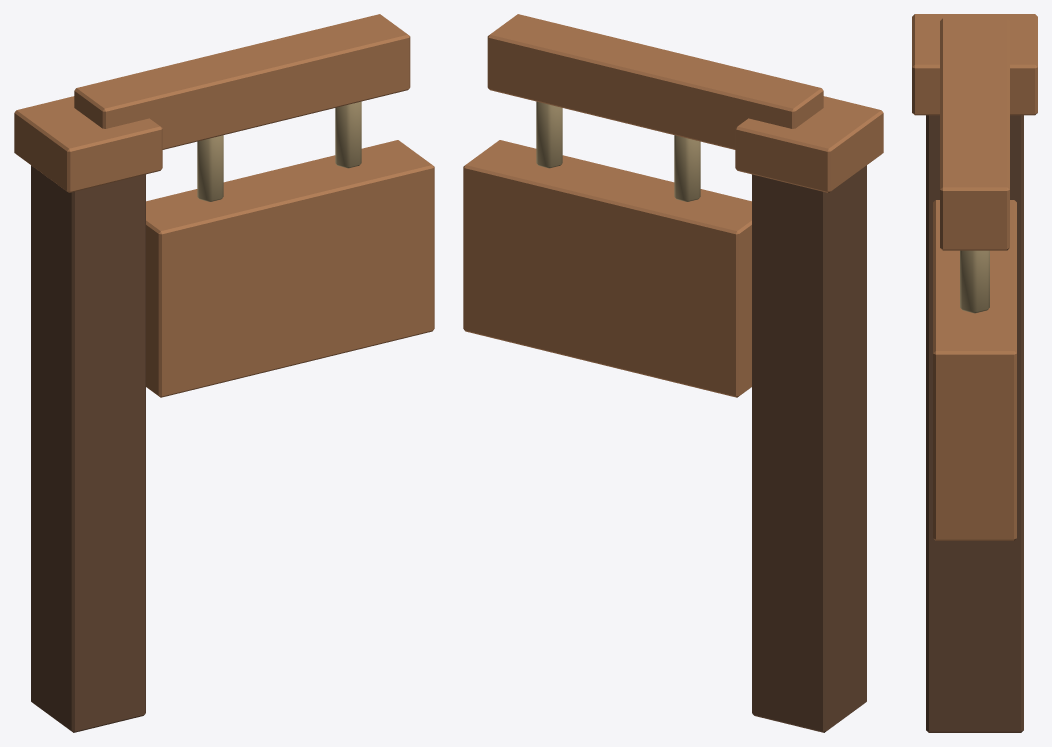
The model's file is wood_sign_hanging_01.glb.
The picture shows the model from 3 angles, left to right: view 1: azimuth 30°, elevation 25°; view 2: azimuth 150°, elevation 25°; view 3: azimuth 270°, elevation 25°; orthographic projection. The views are drawn at different scales.
Visible parts, largest first — view 1: wood_sign_hanging_01; view 2: wood_sign_hanging_01; view 3: wood_sign_hanging_01.
Boxes of the visible parts, x1,y1,x2,y2 form: wood_sign_hanging_01: (14, 14, 434, 732); wood_sign_hanging_01: (463, 14, 883, 732); wood_sign_hanging_01: (912, 14, 1037, 732).
Bounding box in the file's own units: 0.71 × 1.1 × 0.18.
